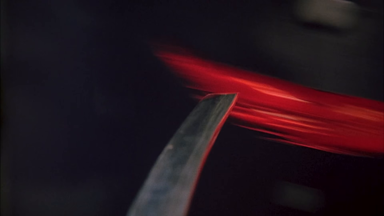bladed_weapon: (124, 90, 242, 214)
